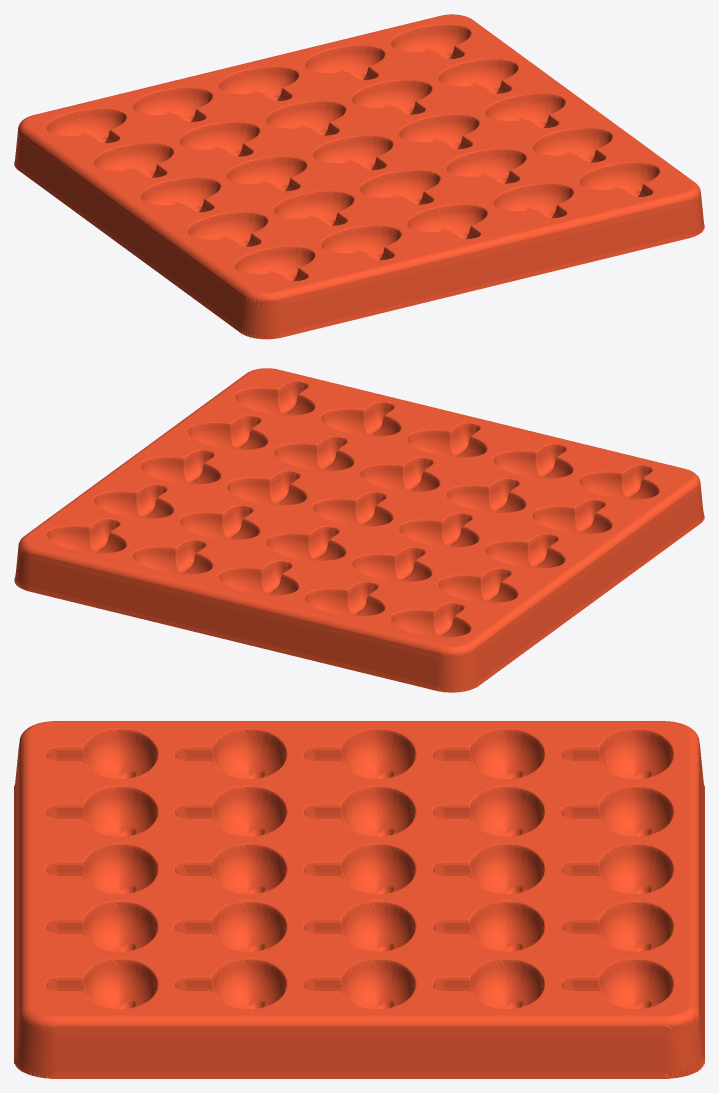
The model's file is mold.glb.
3 views of the same model, one above another, from view 1: azimuth 30°, elevation 25°; view 2: azimuth 150°, elevation 25°; view 3: azimuth 270°, elevation 25° (orthographic). The views are drawn at different scales.
Parts seen in each view (by area): view 1: geometry_0; view 2: geometry_0; view 3: geometry_0.
Boxes of the visible parts, left/top/right/bottom form: geometry_0: left=14, top=14, right=704, bottom=339; geometry_0: left=14, top=368, right=704, bottom=692; geometry_0: left=14, top=721, right=704, bottom=1078.
Size of the model in its own units: 0.1584 by 0.0136 by 0.1506.
